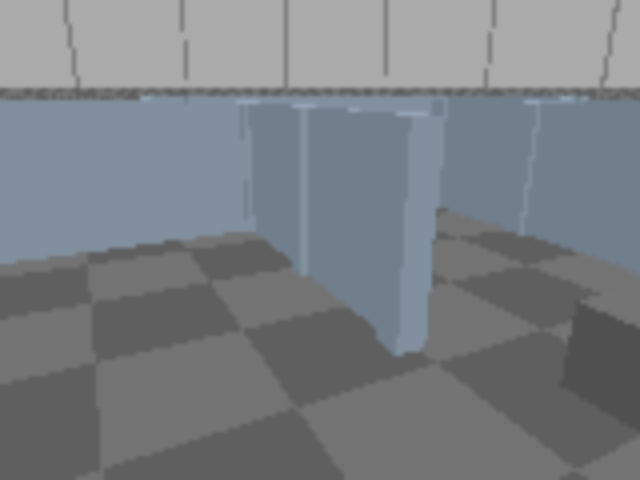obstacle: (561, 285, 638, 464)
